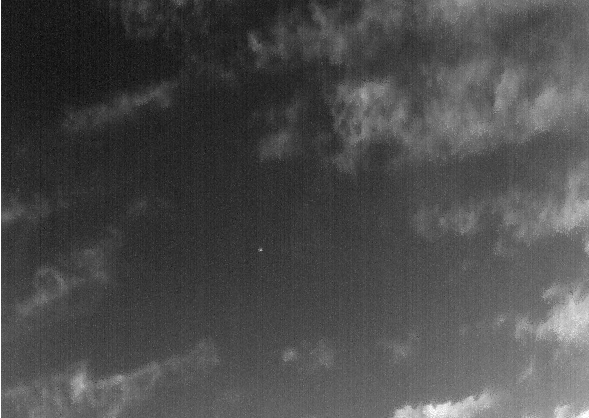dim target: (257, 247, 263, 252)
